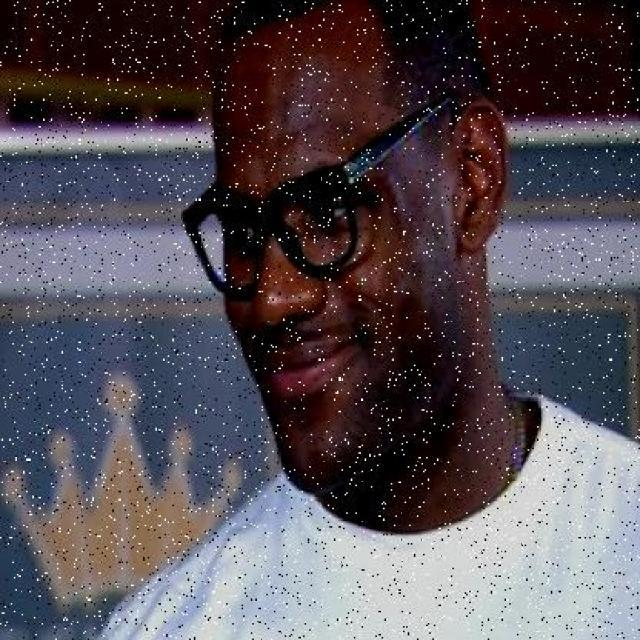mask: (180, 156, 360, 298)
